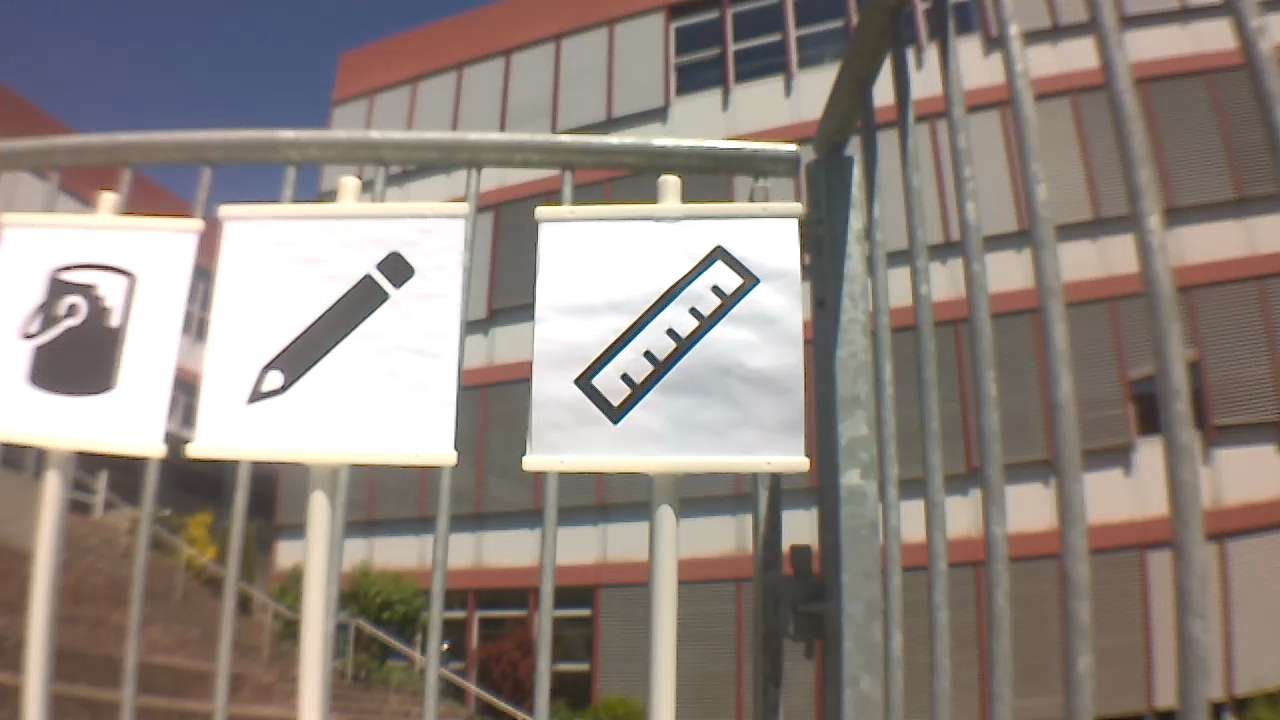bucket: (12, 259, 144, 405)
pencil: (238, 250, 423, 409)
ruler: (582, 232, 763, 427)
